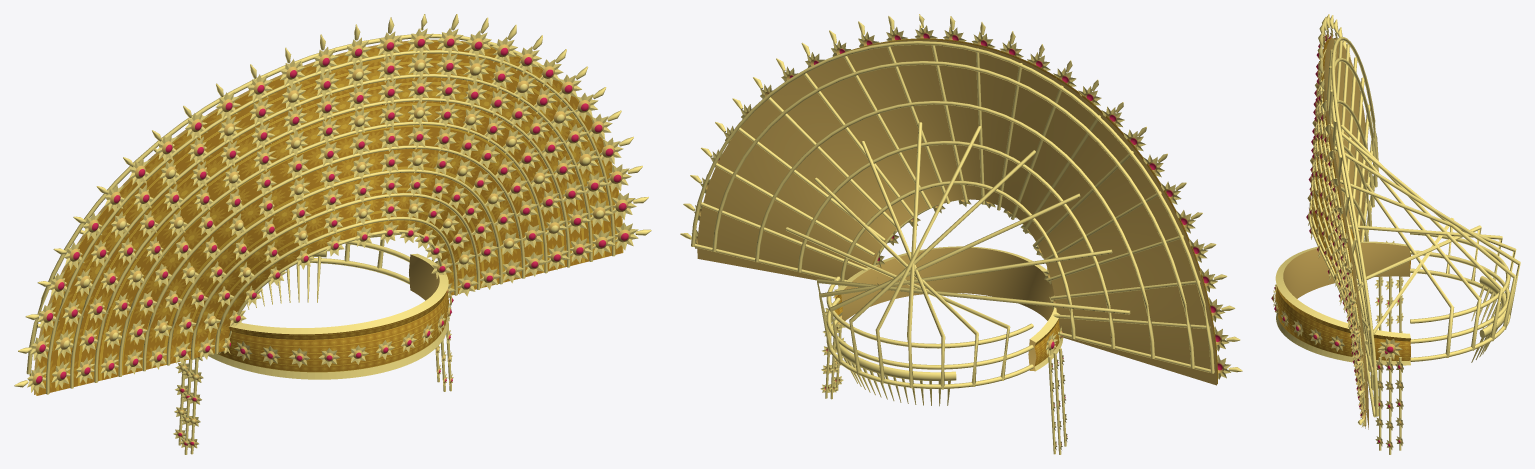
File: 06_Sumatera_Suntiang_Gadang.fbx
The picture shows the model from 3 angles, left to right: view 1: azimuth 30°, elevation 25°; view 2: azimuth 150°, elevation 25°; view 3: azimuth 270°, elevation 25°; orthographic projection. The views are drawn at different scales.
Visible parts, largest first — view 1: Suntiang_Gadang; view 2: Suntiang_Gadang; view 3: Suntiang_Gadang.
Boxes of the visible parts, x1,y1,x2,y2 form: Suntiang_Gadang: (14, 14, 651, 454); Suntiang_Gadang: (680, 14, 1242, 454); Suntiang_Gadang: (1271, 14, 1520, 454).
Bounding box in the file's own units: 333 × 214 × 136.
